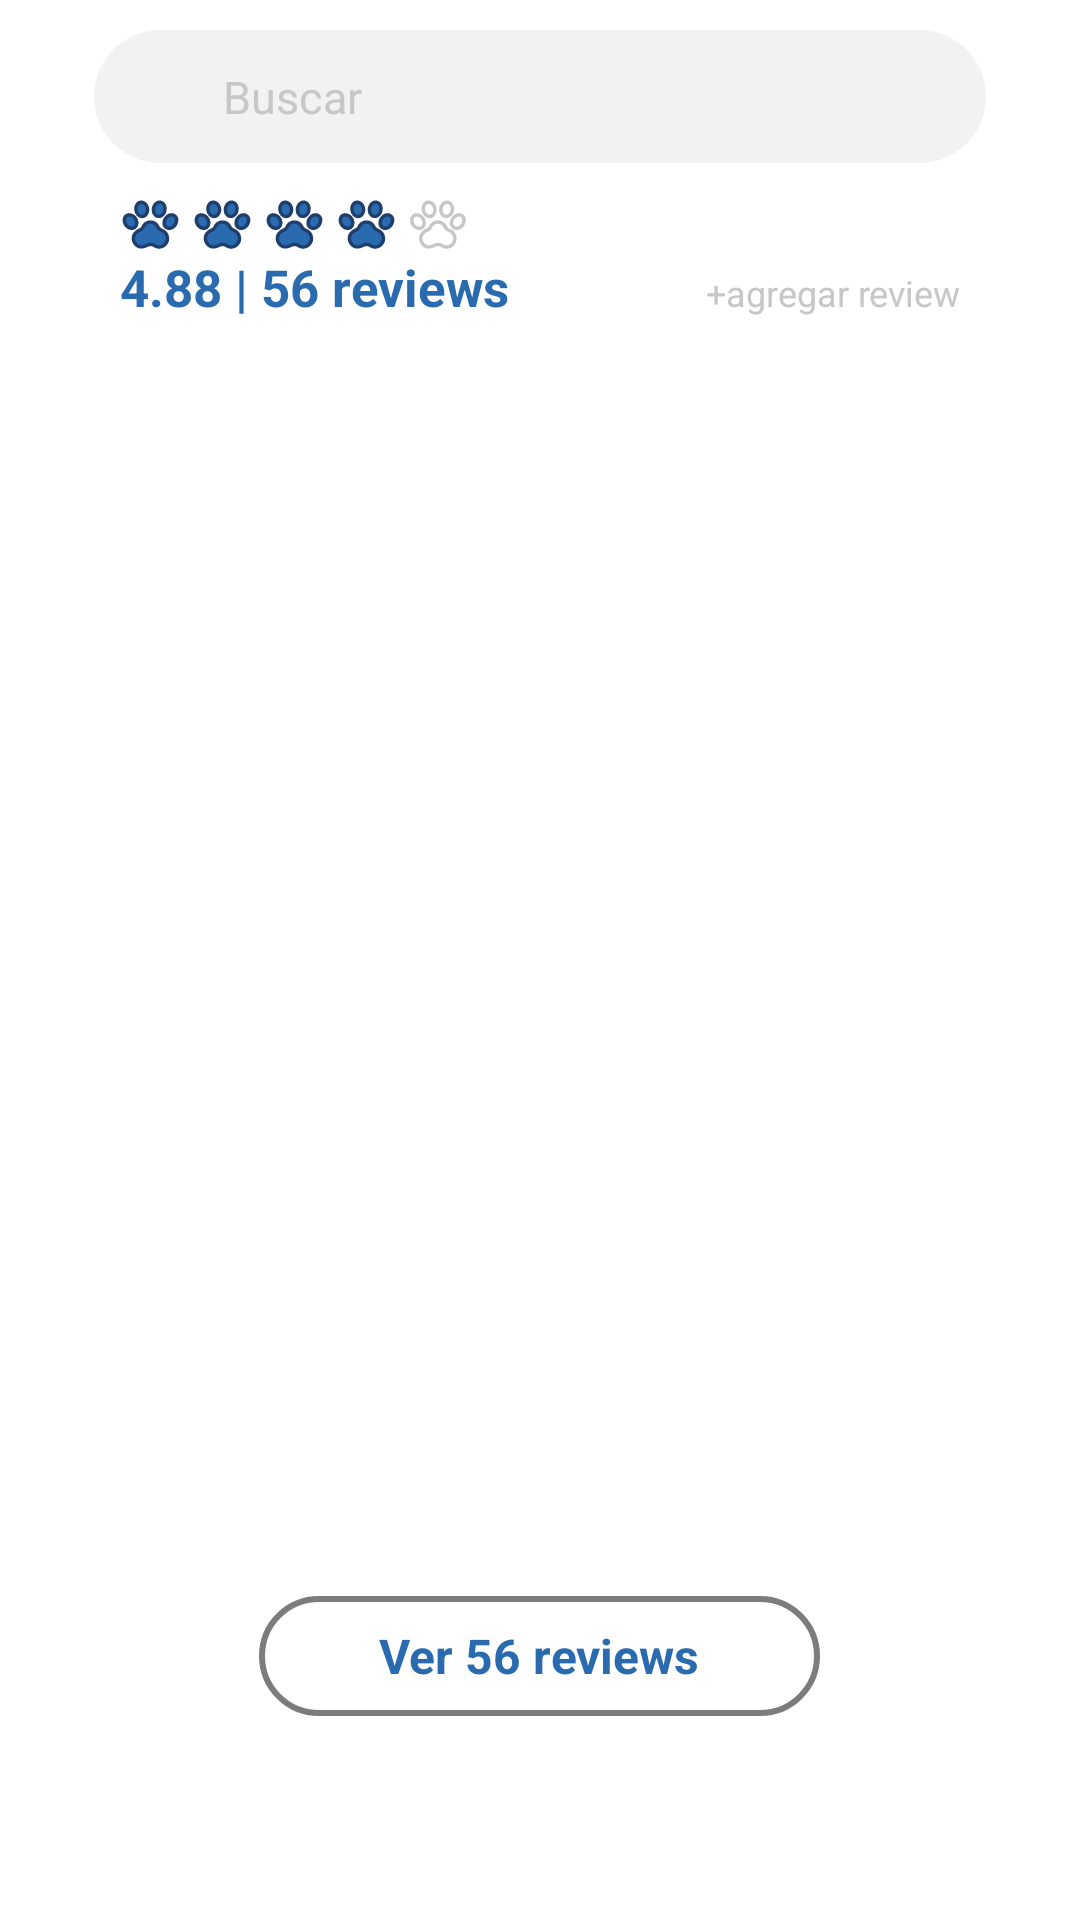

Icon bounding boxes for this 1080 × 1920 phone screenshot, format (x1, y1, x2, y2):
review paw: (122, 200, 179, 249), (194, 200, 251, 249), (266, 200, 323, 249), (338, 200, 395, 249)
review pawblank: (410, 200, 466, 249)
